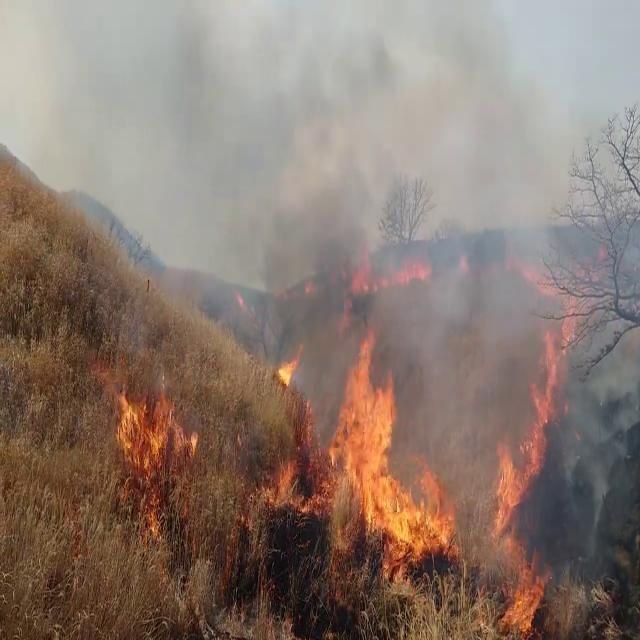Fire: (321, 316, 456, 584), (486, 300, 573, 634), (113, 374, 196, 481), (264, 454, 308, 511), (273, 346, 302, 393)
Smoke: (133, 0, 616, 341)
